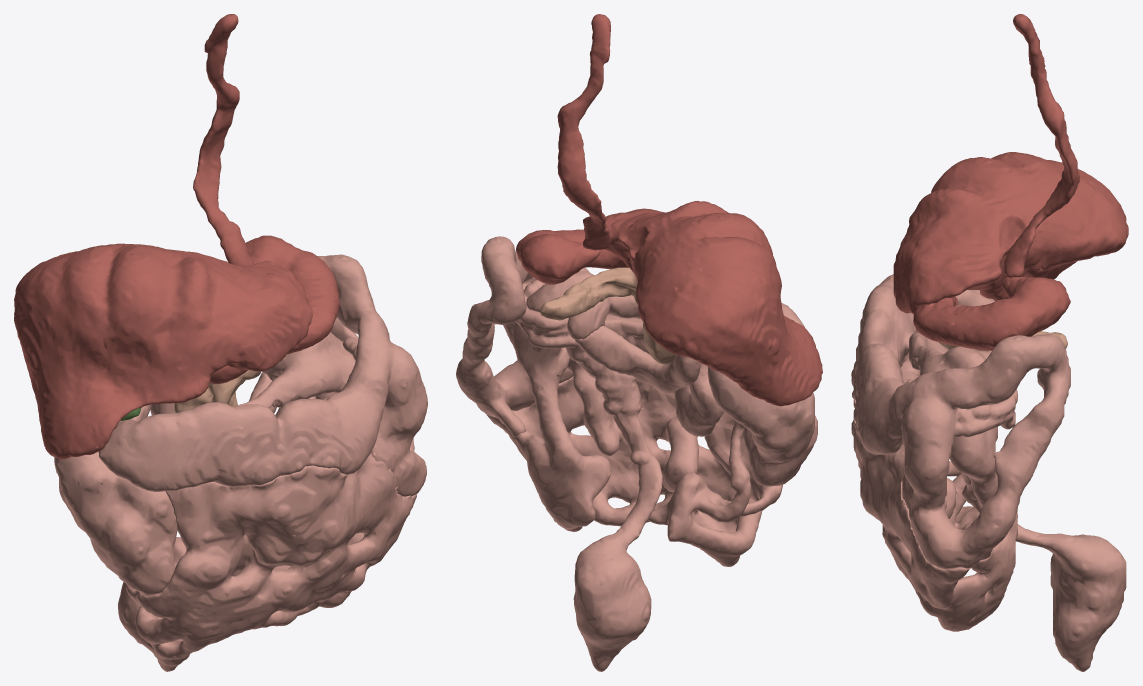
File: tsd_s0196_older_adult_female.digestive.LOD1.glb
The picture shows the model from 3 angles, left to right: view 1: azimuth 30°, elevation 25°; view 2: azimuth 150°, elevation 25°; view 3: azimuth 270°, elevation 25°; orthographic projection. The views are drawn at different scales.
Visible parts, largest first — view 1: TSD_S0196.OLDER_ADULT.FEMALE.DIGESTIVE.COLON, TSD_S0196.OLDER_ADULT.FEMALE.DIGESTIVE.LIVER, TSD_S0196.OLDER_ADULT.FEMALE.DIGESTIVE.SMALL_BOWEL_JEJUNUM_A, TSD_S0196.OLDER_ADULT.FEMALE.DIGESTIVE.ESOPHAGUS, TSD_S0196.OLDER_ADULT.FEMALE.DIGESTIVE.STOMACH, TSD_S0196.OLDER_ADULT.FEMALE.DIGESTIVE.PANCREAS; view 2: TSD_S0196.OLDER_ADULT.FEMALE.DIGESTIVE.SMALL_BOWEL_JEJUNUM_A, TSD_S0196.OLDER_ADULT.FEMALE.DIGESTIVE.COLON, TSD_S0196.OLDER_ADULT.FEMALE.DIGESTIVE.LIVER, TSD_S0196.OLDER_ADULT.FEMALE.DIGESTIVE.ESOPHAGUS, TSD_S0196.OLDER_ADULT.FEMALE.DIGESTIVE.STOMACH, TSD_S0196.OLDER_ADULT.FEMALE.DIGESTIVE.DUODENUM, TSD_S0196.OLDER_ADULT.FEMALE.DIGESTIVE.PANCREAS; view 3: TSD_S0196.OLDER_ADULT.FEMALE.DIGESTIVE.COLON, TSD_S0196.OLDER_ADULT.FEMALE.DIGESTIVE.LIVER, TSD_S0196.OLDER_ADULT.FEMALE.DIGESTIVE.SMALL_BOWEL_JEJUNUM_A, TSD_S0196.OLDER_ADULT.FEMALE.DIGESTIVE.STOMACH, TSD_S0196.OLDER_ADULT.FEMALE.DIGESTIVE.ESOPHAGUS, TSD_S0196.OLDER_ADULT.FEMALE.DIGESTIVE.DUODENUM.
Boxes of the visible parts, left/top/right/bottom form: TSD_S0196.OLDER_ADULT.FEMALE.DIGESTIVE.COLON: left=54, top=254, right=427, bottom=671; TSD_S0196.OLDER_ADULT.FEMALE.DIGESTIVE.LIVER: left=14, top=243, right=312, bottom=459; TSD_S0196.OLDER_ADULT.FEMALE.DIGESTIVE.SMALL_BOWEL_JEJUNUM_A: left=118, top=332, right=417, bottom=659; TSD_S0196.OLDER_ADULT.FEMALE.DIGESTIVE.ESOPHAGUS: left=193, top=14, right=254, bottom=266; TSD_S0196.OLDER_ADULT.FEMALE.DIGESTIVE.STOMACH: left=210, top=235, right=339, bottom=384; TSD_S0196.OLDER_ADULT.FEMALE.DIGESTIVE.PANCREAS: left=174, top=370, right=261, bottom=412; TSD_S0196.OLDER_ADULT.FEMALE.DIGESTIVE.SMALL_BOWEL_JEJUNUM_A: left=487, top=271, right=782, bottom=566; TSD_S0196.OLDER_ADULT.FEMALE.DIGESTIVE.COLON: left=456, top=236, right=817, bottom=671; TSD_S0196.OLDER_ADULT.FEMALE.DIGESTIVE.LIVER: left=605, top=200, right=822, bottom=406; TSD_S0196.OLDER_ADULT.FEMALE.DIGESTIVE.ESOPHAGUS: left=557, top=14, right=610, bottom=250; TSD_S0196.OLDER_ADULT.FEMALE.DIGESTIVE.STOMACH: left=516, top=229, right=628, bottom=284; TSD_S0196.OLDER_ADULT.FEMALE.DIGESTIVE.DUODENUM: left=575, top=325, right=701, bottom=393; TSD_S0196.OLDER_ADULT.FEMALE.DIGESTIVE.PANCREAS: left=540, top=267, right=675, bottom=364; TSD_S0196.OLDER_ADULT.FEMALE.DIGESTIVE.COLON: left=851, top=274, right=1126, bottom=671; TSD_S0196.OLDER_ADULT.FEMALE.DIGESTIVE.LIVER: left=893, top=152, right=1128, bottom=313; TSD_S0196.OLDER_ADULT.FEMALE.DIGESTIVE.SMALL_BOWEL_JEJUNUM_A: left=851, top=332, right=1017, bottom=631; TSD_S0196.OLDER_ADULT.FEMALE.DIGESTIVE.STOMACH: left=913, top=277, right=1070, bottom=350; TSD_S0196.OLDER_ADULT.FEMALE.DIGESTIVE.ESOPHAGUS: left=1004, top=14, right=1079, bottom=277; TSD_S0196.OLDER_ADULT.FEMALE.DIGESTIVE.DUODENUM: left=955, top=290, right=994, bottom=351.
Bounding box in the file's own units: 0.2884 × 0.5014 × 0.1878.
